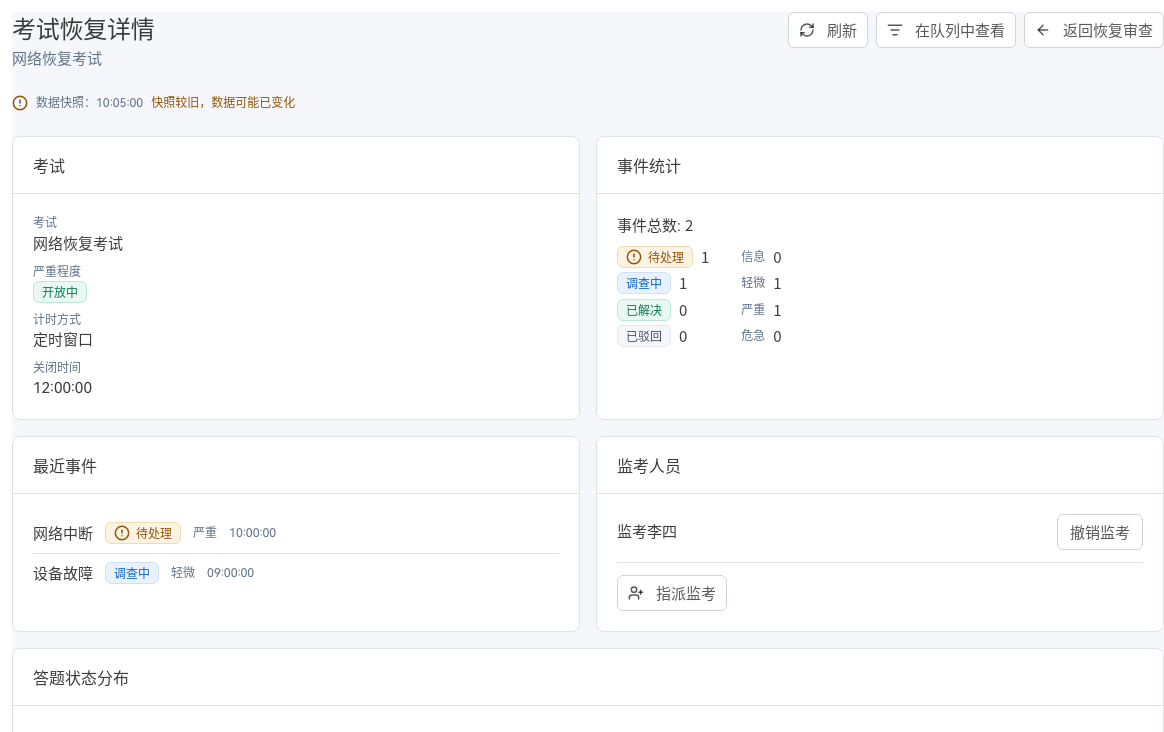
Scenario: RecoveryExamDetailPage › keeps the loaded page on screen with an inline warning when a background refresh fails
Click the button "刷新".
click(828, 30)  # box [788,12,868,48]
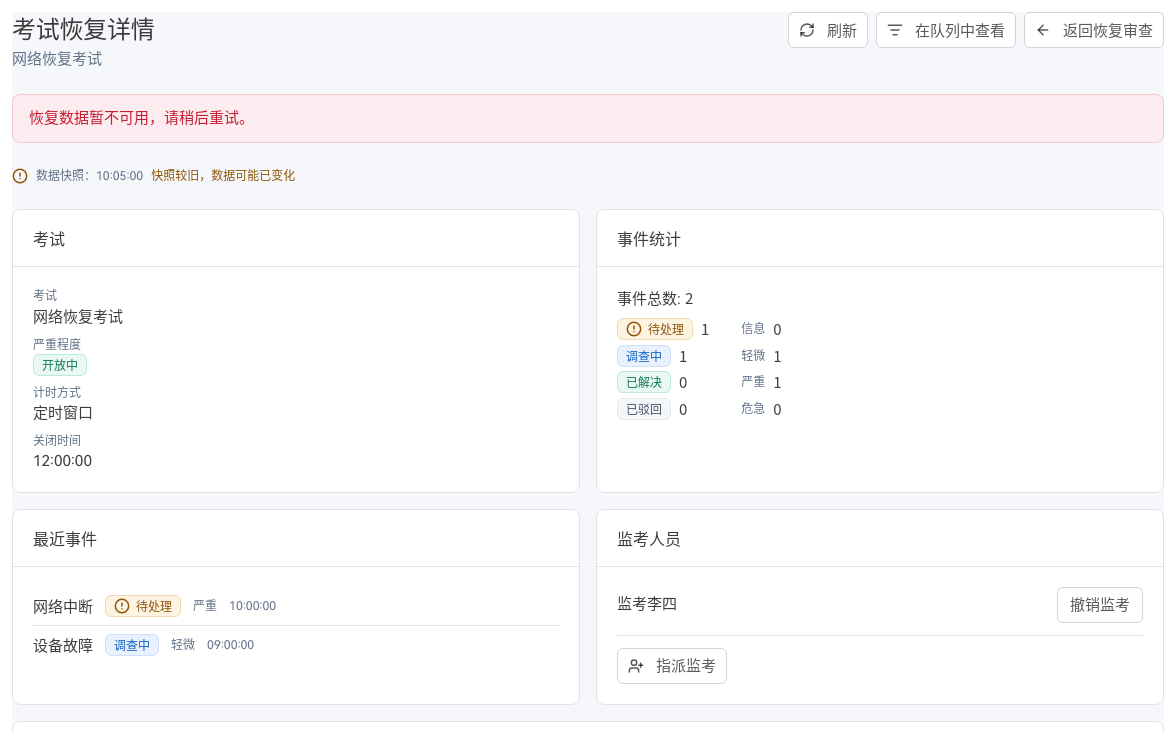
Expected: the text "恢复数据暂不可用，请稍后重试。" is shown, [12,94,1163,142]
